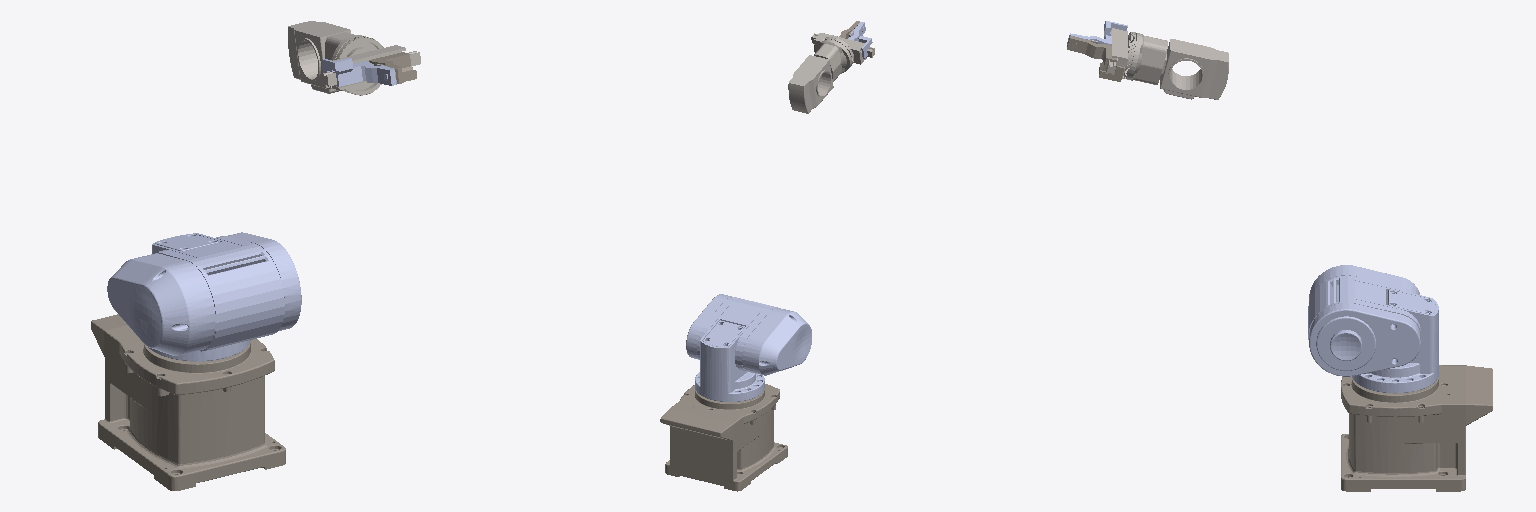
robot.urdf — robot_description:
<?xml version="1.0" encoding="utf-8"?>
<!-- This URDF was automatically created by SolidWorks to URDF Exporter! Originally created by [author] ([email redacted]) 
     Commit Version: 1.6.0-4-g7f85cfe  Build Version: 1.6.7995.38578
     For more information, please see http://wiki.ros.org/sw_urdf_exporter -->
<robot
  name="robot_description">
  <link
    name="base_link">
    <inertial>
      <origin
        xyz="-1.3908E-06 0.025233 0.091315"
        rpy="0 0 0" />
      <mass
        value="6.3881" />
      <inertia
        ixx="0.044253"
        ixy="5.7312E-07"
        ixz="6.0286E-07"
        iyy="0.032681"
        iyz="-0.002067"
        izz="0.042843" />
    </inertial>
    <visual>
      <origin
        xyz="0 0 0"
        rpy="0 0 0" />
      <geometry>
        <mesh
          filename="package://robot_description/meshes/base_link.STL" />
      </geometry>
      <material
        name="">
        <color
          rgba="0.65098 0.61961 0.58824 1" />
      </material>
    </visual>
    <collision>
      <origin
        xyz="0 0 0"
        rpy="0 0 0" />
      <geometry>
        <mesh
          filename="package://robot_description/meshes/base_link.STL" />
      </geometry>
    </collision>
  </link>
  <link
    name="link_1">
    <inertial>
      <origin
        xyz="-0.045911 0.014889 0.10379"
        rpy="0 0 0" />
      <mass
        value="6.1423" />
      <inertia
        ixx="0.016194"
        ixy="-4.2666E-05"
        ixz="0.0044536"
        iyy="0.030171"
        iyz="6.9893E-07"
        izz="0.024485" />
    </inertial>
    <visual>
      <origin
        xyz="0 0 0"
        rpy="0 0 0" />
      <geometry>
        <mesh
          filename="package://robot_description/meshes/link_1.STL" />
      </geometry>
      <material
        name="">
        <color
          rgba="0.79216 0.81961 0.93333 1" />
      </material>
    </visual>
    <collision>
      <origin
        xyz="0 0 0"
        rpy="0 0 0" />
      <geometry>
        <mesh
          filename="package://robot_description/meshes/link_1.STL" />
      </geometry>
    </collision>
  </link>
  <joint
    name="joint_1"
    type="revolute">
    <origin
      xyz="0 0 0.175"
      rpy="0 0 1.5708" />
    <parent
      link="base_link" />
    <child
      link="link_1" />
    <axis
      xyz="0 0 0" />
    <limit
      lower="0"
      upper="3.142"
      effort="300"
      velocity="3" />
  </joint>
  <link
    name="link_2">
    <inertial>
      <origin
        xyz="-4.83571810450112E-05 -0.174307508002041 -0.0349243341599044"
        rpy="0 0 0" />
      <mass
        value="2.48281663590646" />
      <inertia
        ixx="0.0497833412473321"
        ixy="-3.79326942590701E-06"
        ixz="3.91992586527837E-07"
        iyy="0.00261360494525241"
        iyz="-1.61774302029982E-05"
        izz="0.0517380702077168" />
    </inertial>
    <visual>
      <origin
        xyz="0 0 0"
        rpy="0 0 0" />
      <geometry>
        <mesh
          filename="package://robot_description/meshes/link_2.STL" />
      </geometry>
      <material
        name="">
        <color
          rgba="0.792156862745098 0.819607843137255 0.933333333333333 1" />
      </material>
    </visual>
    <collision>
      <origin
        xyz="0 0 0"
        rpy="0 0 0" />
      <geometry>
        <mesh
          filename="package://robot_description/meshes/link_2.STL" />
      </geometry>
    </collision>
  </link>
  <joint
    name="joint_2"
    type="revolute">
    <origin
      xyz="-0.089983 -0.09 0.12047"
      rpy="-1.5708 0 0" />
    <parent
      link="link_1" />
    <child
      link="link_2" />
    <axis
      xyz="0 0 -1" />
    <limit
      lower="-1.52"
      upper="1.52"
      effort="200"
      velocity="3" />
  </joint>
  <link
    name="link_3">
    <inertial>
      <origin
        xyz="0.037320223301333 -0.027141323498415 0.103036752175439"
        rpy="0 0 0" />
      <mass
        value="7.02290373419681" />
      <inertia
        ixx="0.0216860618757671"
        ixy="0.000112620386395565"
        ixz="-3.92750122540952E-05"
        iyy="0.0323021842810355"
        iyz="-2.06323348968285E-05"
        izz="0.0417729642510371" />
    </inertial>
    <visual>
      <origin
        xyz="0 0 0"
        rpy="0 0 0" />
      <geometry>
        <mesh
          filename="package://robot_description/meshes/link_3.STL" />
      </geometry>
      <material
        name="">
        <color
          rgba="0.792156862745098 0.819607843137255 0.933333333333333 1" />
      </material>
    </visual>
    <collision>
      <origin
        xyz="0 0 0"
        rpy="0 0 0" />
      <geometry>
        <mesh
          filename="package://robot_description/meshes/link_3.STL" />
      </geometry>
    </collision>
  </link>
  <joint
    name="joint_3"
    type="revolute">
    <origin
      xyz="0 -0.34998 0"
      rpy="0 0 0" />
    <parent
      link="link_2" />
    <child
      link="link_3" />
    <axis
      xyz="0 0 -1" />
    <limit
      lower="-3.142"
      upper="0"
      effort="200"
      velocity="3" />
  </joint>
  <link
    name="link_4">
    <inertial>
      <origin
        xyz="-4.16993897194295E-05 -0.0034617894273514 0.109572414245508"
        rpy="0 0 0" />
      <mass
        value="1.75839958141945" />
      <inertia
        ixx="0.0123895257712281"
        ixy="1.78342945354325E-05"
        ixz="-0.00034108838476017"
        iyy="0.0113465000523975"
        iyz="0.00018561564619931"
        izz="0.0027144775181128" />
    </inertial>
    <visual>
      <origin
        xyz="0 0 0"
        rpy="0 0 0" />
      <geometry>
        <mesh
          filename="package://robot_description/meshes/link_4.STL" />
      </geometry>
      <material
        name="">
        <color
          rgba="0.792156862745098 0.819607843137255 0.933333333333333 1" />
      </material>
    </visual>
    <collision>
      <origin
        xyz="0 0 0"
        rpy="0 0 0" />
      <geometry>
        <mesh
          filename="package://robot_description/meshes/link_4.STL" />
      </geometry>
    </collision>
  </link>
  <joint
    name="joint_4"
    type="revolute">
    <origin
      xyz="-0.078935 -0.11074 0.09"
      rpy="1.5708 0 -1.3286" />
    <parent
      link="link_3" />
    <child
      link="link_4" />
    <axis
      xyz="0 0 1" />
    <limit
      lower="0"
      upper="3.142"
      effort="200"
      velocity="3" />
  </joint>
  <link
    name="link_5">
    <inertial>
      <origin
        xyz="-0.043495 0.0093292 0.03"
        rpy="0 0 0" />
      <mass
        value="0.76569" />
      <inertia
        ixx="0.00075084"
        ixy="1.9418E-05"
        ixz="-7.8289E-07"
        iyy="0.00091618"
        iyz="-3.1686E-06"
        izz="0.00098614" />
    </inertial>
    <visual>
      <origin
        xyz="0 0 0"
        rpy="0 0 0" />
      <geometry>
        <mesh
          filename="package://robot_description/meshes/link_5.STL" />
      </geometry>
      <material
        name="">
        <color
          rgba="0.77647 0.75686 0.73725 1" />
      </material>
    </visual>
    <collision>
      <origin
        xyz="0 0 0"
        rpy="0 0 0" />
      <geometry>
        <mesh
          filename="package://robot_description/meshes/link_5.STL" />
      </geometry>
    </collision>
  </link>
  <joint
    name="joint_5"
    type="revolute">
    <origin
      xyz="0.0015915 0.029738 0.22152"
      rpy="1.5708 1.3286 0" />
    <parent
      link="link_4" />
    <child
      link="link_5" />
    <axis
      xyz="0 0 1" />
    <limit
      lower="-3.142"
      upper="0"
      effort="200"
      velocity="3" />
  </joint>
  <link
    name="link_6">
    <inertial>
      <origin
        xyz="0.025761 -0.023526 0.017713"
        rpy="0 0 0" />
      <mass
        value="0.045658" />
      <inertia
        ixx="2.5682E-05"
        ixy="-1.223E-05"
        ixz="6.686E-06"
        iyy="2.8506E-05"
        iyz="7.5054E-06"
        izz="4.0486E-05" />
    </inertial>
    <visual>
      <origin
        xyz="0 0 0"
        rpy="0 0 0" />
      <geometry>
        <mesh
          filename="package://robot_description/meshes/link_6.STL" />
      </geometry>
      <material
        name="">
        <color
          rgba="0.65098 0.61961 0.58824 1" />
      </material>
    </visual>
    <collision>
      <origin
        xyz="0 0 0"
        rpy="0 0 0" />
      <geometry>
        <mesh
          filename="package://robot_description/meshes/link_6.STL" />
      </geometry>
    </collision>
  </link>
  <joint
    name="joint_6"
    type="prismatic">
    <origin
      xyz="-0.13597 0.054196 0.03"
      rpy="-1.5708 0 3.1416" />
    <parent
      link="link_5" />
    <child
      link="link_6" />
    <axis
      xyz="0 -1 0" />
    <limit
      lower="-0.04"
      upper="0"
      effort="200"
      velocity="3" />
  </joint>
  <link
    name="link_7">
    <inertial>
      <origin
        xyz="0.0241418501748516 0.0286064426028703 0.0111598891414371"
        rpy="0 0 0" />
      <mass
        value="0.0456580141078622" />
      <inertia
        ixx="2.33821169373113E-05"
        ixy="1.43181503571547E-05"
        ixz="2.31557837472947E-06"
        iyy="2.85060531019455E-05"
        iyz="9.45921634866665E-07"
        izz="4.27863414665982E-05" />
    </inertial>
    <visual>
      <origin
        xyz="0 0 0"
        rpy="0 0 0" />
      <geometry>
        <mesh
          filename="package://robot_description/meshes/link_7.STL" />
      </geometry>
      <material
        name="">
        <color
          rgba="0.792156862745098 0.819607843137255 0.933333333333333 1" />
      </material>
    </visual>
    <collision>
      <origin
        xyz="0 0 0"
        rpy="0 0 0" />
      <geometry>
        <mesh
          filename="package://robot_description/meshes/link_7.STL" />
      </geometry>
    </collision>
  </link>
  <joint
    name="joint_7"
    type="prismatic">
    <origin
      xyz="-0.13597 0.054196 0.03"
      rpy="-1.5708 0 3.1416" />
    <parent
      link="link_5" />
    <child
      link="link_7" />
    <axis
      xyz="0 -1 0" />
    <limit
      lower="0"
      upper="0.04"
      effort="200"
      velocity="3" />
  </joint>
</robot>

--- Render facts (derived) ---
3 views of the same robot in one strip: view 1: azimuth 30°, elevation 25°; view 2: azimuth 150°, elevation 25°; view 3: azimuth 270°, elevation 25° (orthographic).
Robot: robot_description — 8 links, 7 joints (5 revolute, 2 prismatic); root link base_link; default pose: all joints at 0.
Visible links, largest first — view 1: base_link, link_1, link_5, link_7, link_6; view 2: link_1, base_link, link_5; view 3: base_link, link_1, link_5, link_6.
Boxes of the visible links, box(x1,y1,x2,y2) form: base_link: box(91, 314, 285, 490); link_1: box(107, 232, 301, 361); link_5: box(288, 21, 420, 95); link_7: box(321, 58, 396, 86); link_6: box(369, 52, 416, 83); link_1: box(686, 294, 811, 401); base_link: box(660, 384, 787, 491); link_5: box(788, 33, 874, 113); base_link: box(1341, 365, 1492, 491); link_1: box(1308, 265, 1438, 392); link_5: box(1106, 28, 1228, 99); link_6: box(1067, 36, 1124, 81).
Bounding box of the posed robot: 0.245 × 0.7832 × 0.8812 m (x, y, z).
Meshes: 8 distinct files referenced, 5 mesh visuals loaded (5 binary STL); not drawn: 3 (reference not matched to a file when rendering).